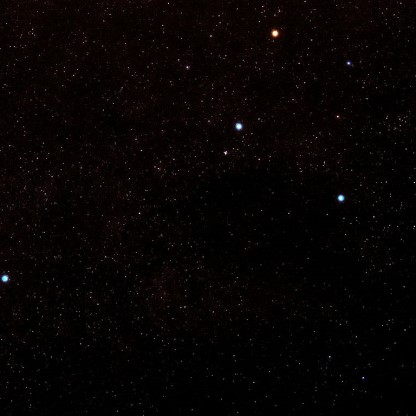Southern Cross: (227, 115, 250, 141), (332, 188, 351, 210), (266, 26, 288, 43), (335, 56, 355, 74)
